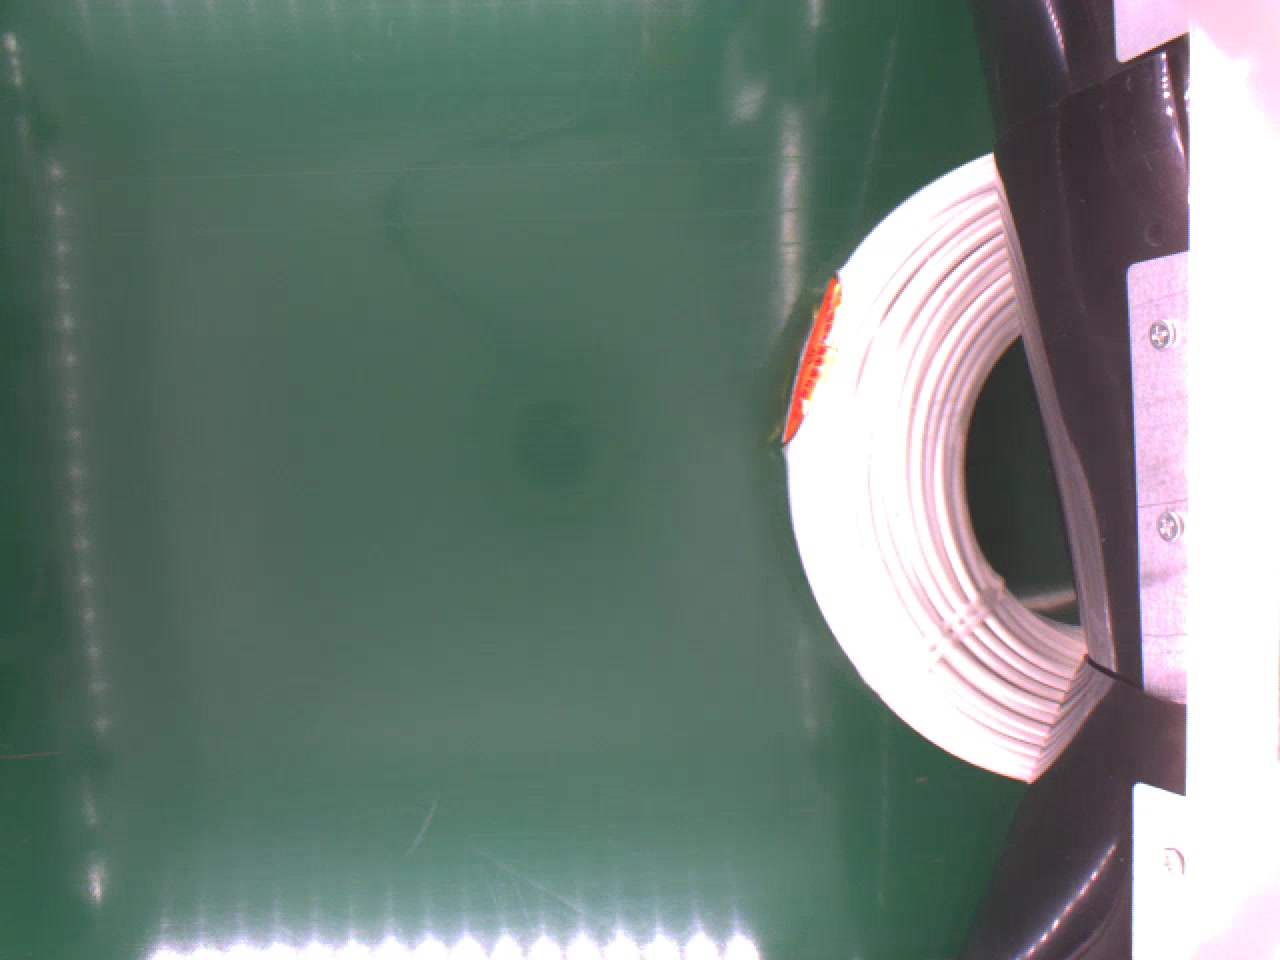white: (775, 146, 1087, 778)
